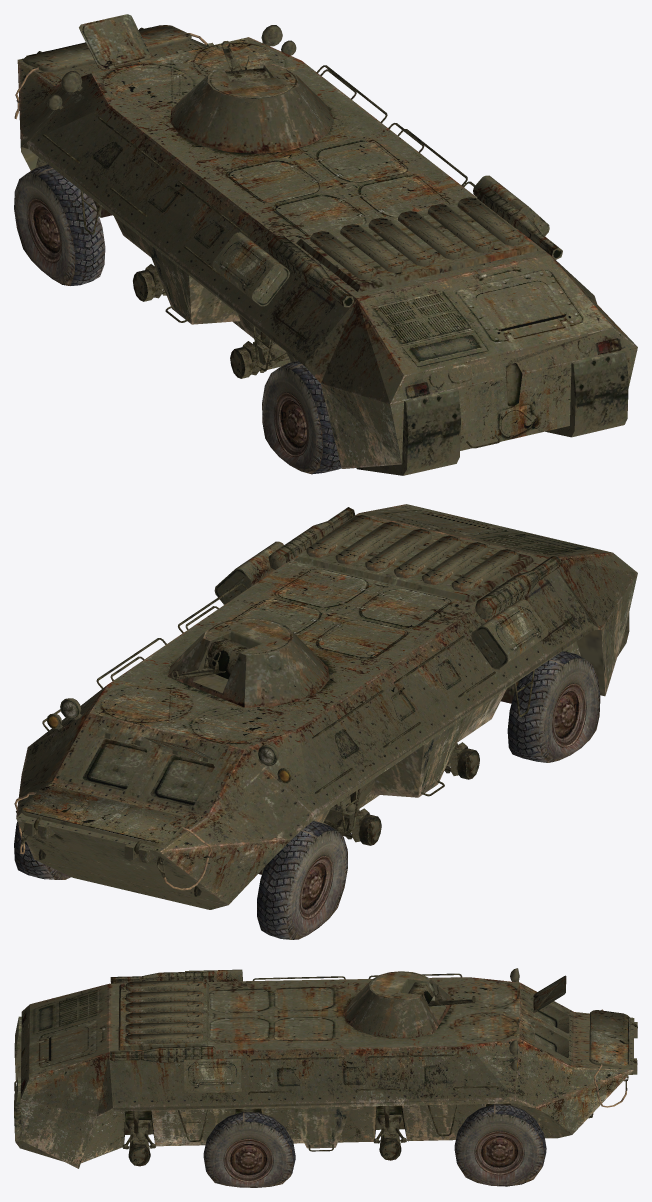
Rendered from btr.fbx.
3 renders of one model, top to bottom at view 1: azimuth 30°, elevation 25°; view 2: azimuth 150°, elevation 25°; view 3: azimuth 270°, elevation 25°, orthographic. The views are drawn at different scales.
Parts seen in each view (by area): view 1: 1; view 2: 1; view 3: 1.
Boxes of the visible parts, left/top/right/bottom form: 1: left=14, top=14, right=637, bottom=475; 1: left=14, top=504, right=637, bottom=939; 1: left=14, top=968, right=637, bottom=1187.
Bounding box in the file's own units: 3.63 × 2.53 × 9.22.
